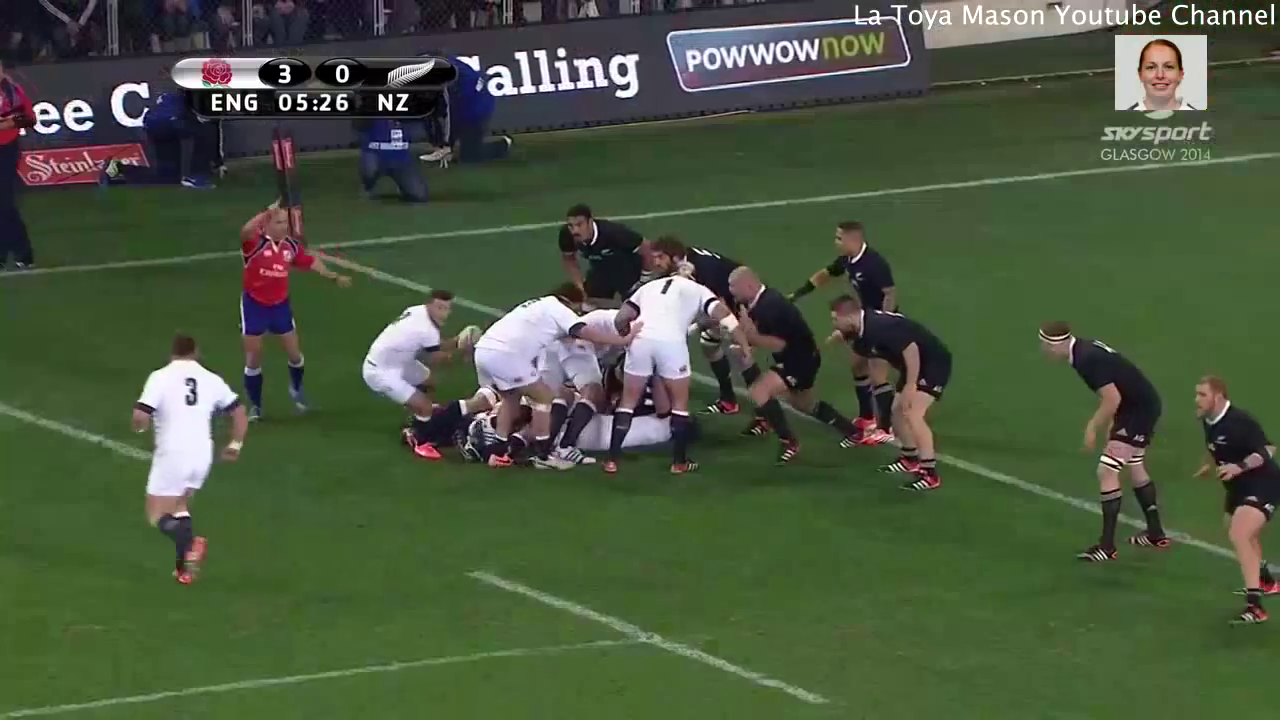ball: (448, 320, 497, 364)
player: (1018, 305, 1176, 573), (807, 280, 968, 505), (113, 324, 245, 595), (714, 248, 865, 465), (448, 276, 599, 490), (222, 182, 353, 428), (1173, 366, 1280, 637), (589, 254, 712, 481), (344, 277, 473, 470), (537, 189, 654, 320), (777, 214, 915, 320), (639, 220, 752, 320)
